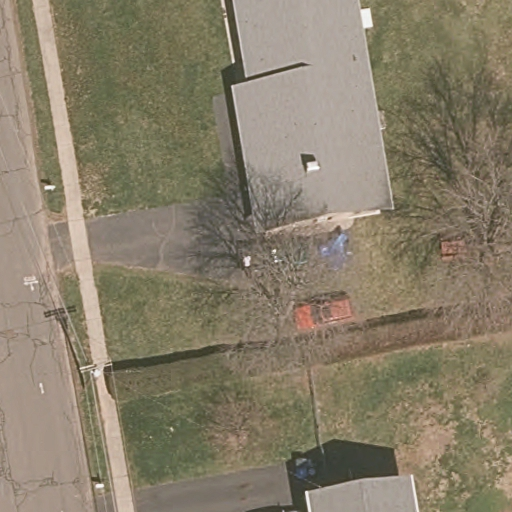DT: (79, 358, 112, 390)
